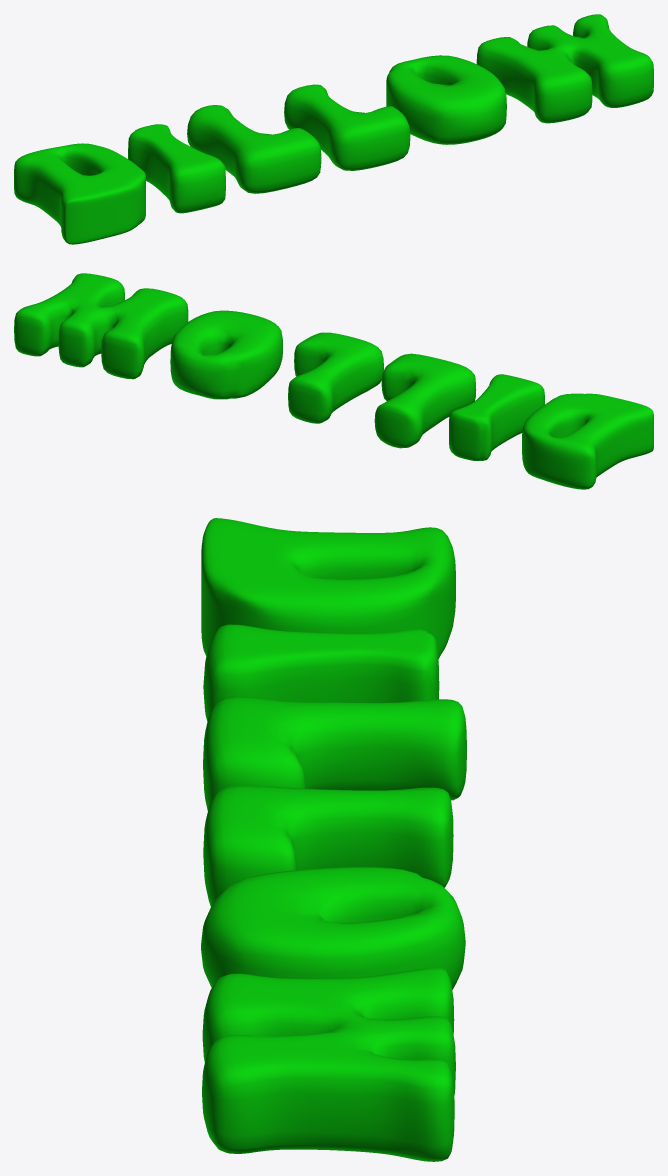
File: Title (ROUND).fbx
3 renders of one model, top to bottom at view 1: azimuth 30°, elevation 25°; view 2: azimuth 150°, elevation 25°; view 3: azimuth 270°, elevation 25°, orthographic. The views are drawn at different scales.
Visible parts, largest first — view 1: W_mesh, D_Mesh, O_mesh, L_L_mesh, L_R_mesh, I_mesh; view 2: W_mesh, D_Mesh, O_mesh, L_L_mesh, L_R_mesh, I_mesh; view 3: W_mesh, D_Mesh, O_mesh, L_L_mesh, L_R_mesh, I_mesh.
Part boxes in pixels (<box>): W_mesh: <box>476,14,653,123</box>; D_Mesh: <box>14,143,145,244</box>; O_mesh: <box>386,55,506,144</box>; L_L_mesh: <box>187,105,321,193</box>; L_R_mesh: <box>284,84,410,170</box>; I_mesh: <box>128,124,225,213</box>; W_mesh: <box>14,273,188,379</box>; D_Mesh: <box>522,393,653,489</box>; O_mesh: <box>170,310,282,399</box>; L_L_mesh: <box>374,353,476,448</box>; L_R_mesh: <box>288,332,383,423</box>; I_mesh: <box>449,374,544,460</box>; W_mesh: <box>202,967,455,1161</box>; D_Mesh: <box>201,518,455,659</box>; O_mesh: <box>201,866,465,989</box>; L_L_mesh: <box>203,696,466,810</box>; L_R_mesh: <box>203,785,453,906</box>; I_mesh: <box>203,624,439,721</box>.
Size of the model in its own units: 397 by 29.45 by 78.18.
